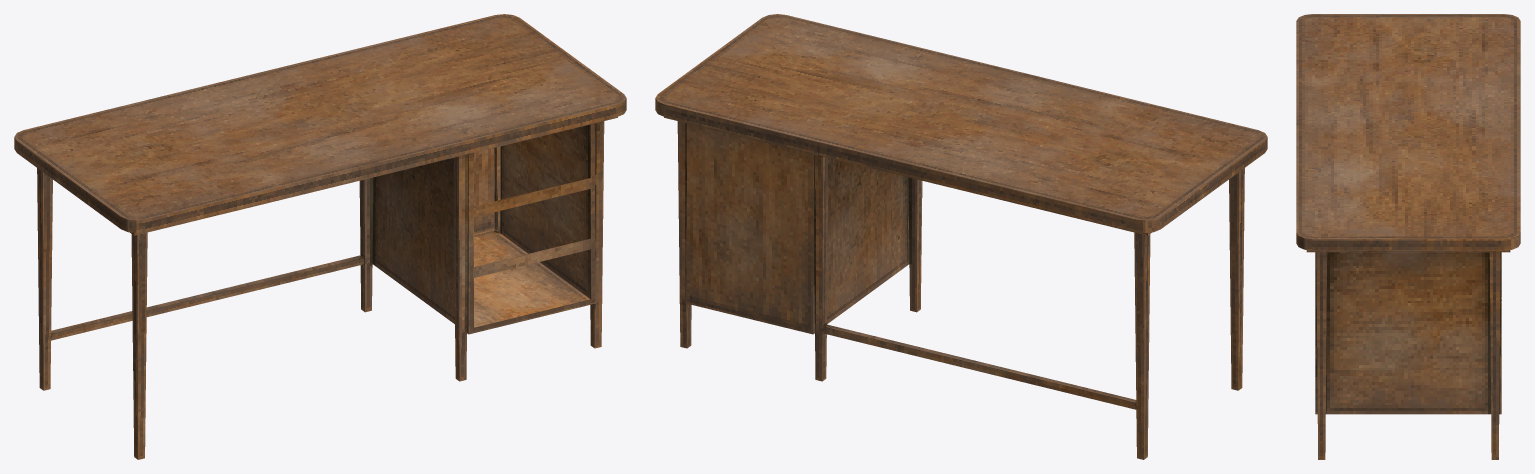
Rendered from Desk.glb.
3 views of the same model, side by side, from view 1: azimuth 30°, elevation 25°; view 2: azimuth 150°, elevation 25°; view 3: azimuth 270°, elevation 25° (orthographic). The views are drawn at different scales.
Visible parts, largest first — view 1: Desk; view 2: Desk; view 3: Desk.
Boxes of the visible parts, bbox=[...] form: Desk: bbox=[14, 14, 626, 459]; Desk: bbox=[655, 14, 1267, 459]; Desk: bbox=[1296, 14, 1520, 459].
Bounding box in the file's own units: 1.26 × 0.5988 × 0.53.
Materials: 1 (1 with a texture image).
